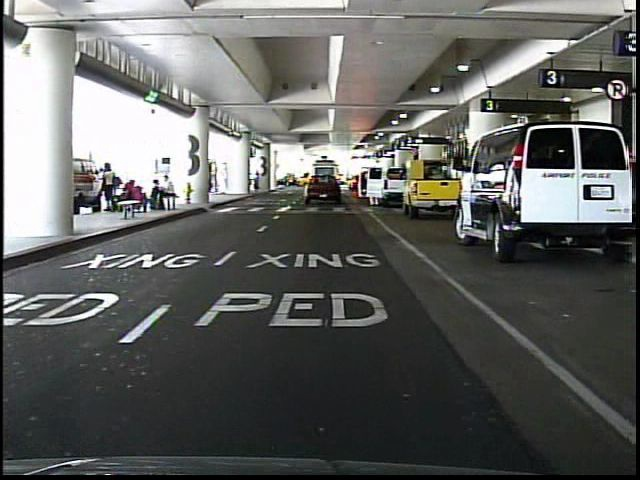person: (253, 168, 264, 193)
